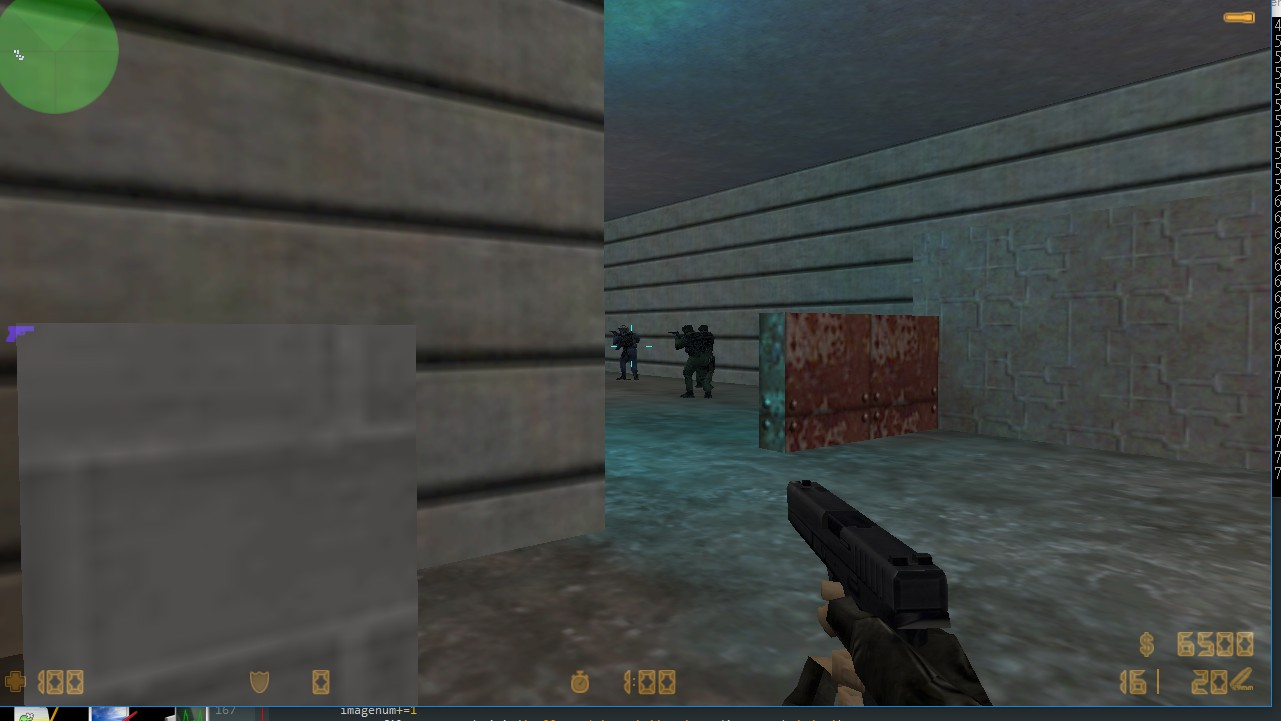person: (670, 318, 709, 399), (609, 321, 641, 383)
